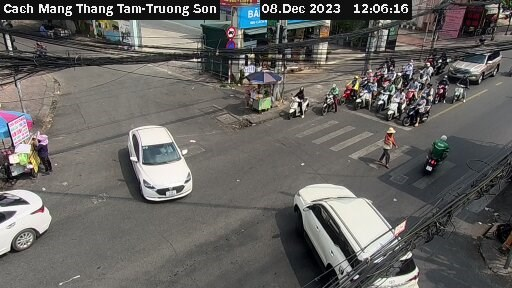car: (291, 181, 421, 288), (126, 122, 196, 204), (1, 177, 53, 260), (450, 45, 503, 84)
motorbike: (422, 132, 451, 178), (282, 87, 310, 120), (316, 85, 344, 114), (403, 99, 436, 123), (450, 78, 475, 109), (385, 92, 408, 121), (342, 77, 365, 104), (356, 85, 375, 108)
